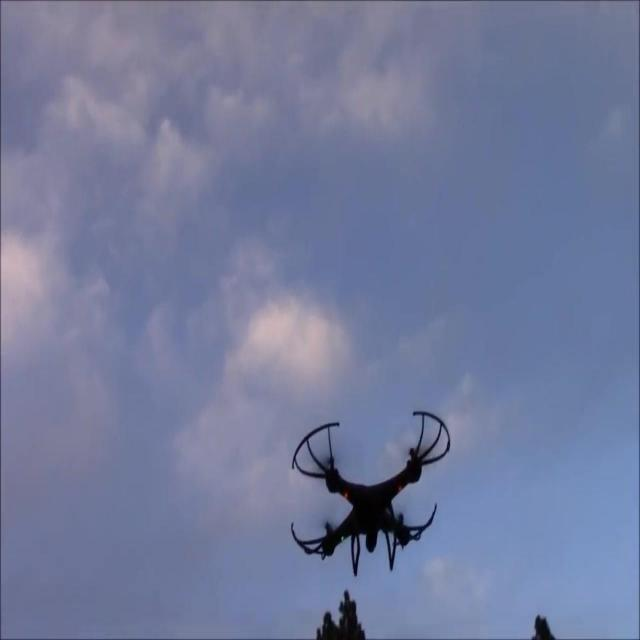UAV: (291, 410, 451, 578)
